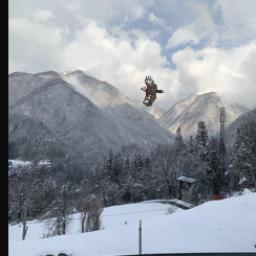Woodpecker: (140, 75, 166, 108)
